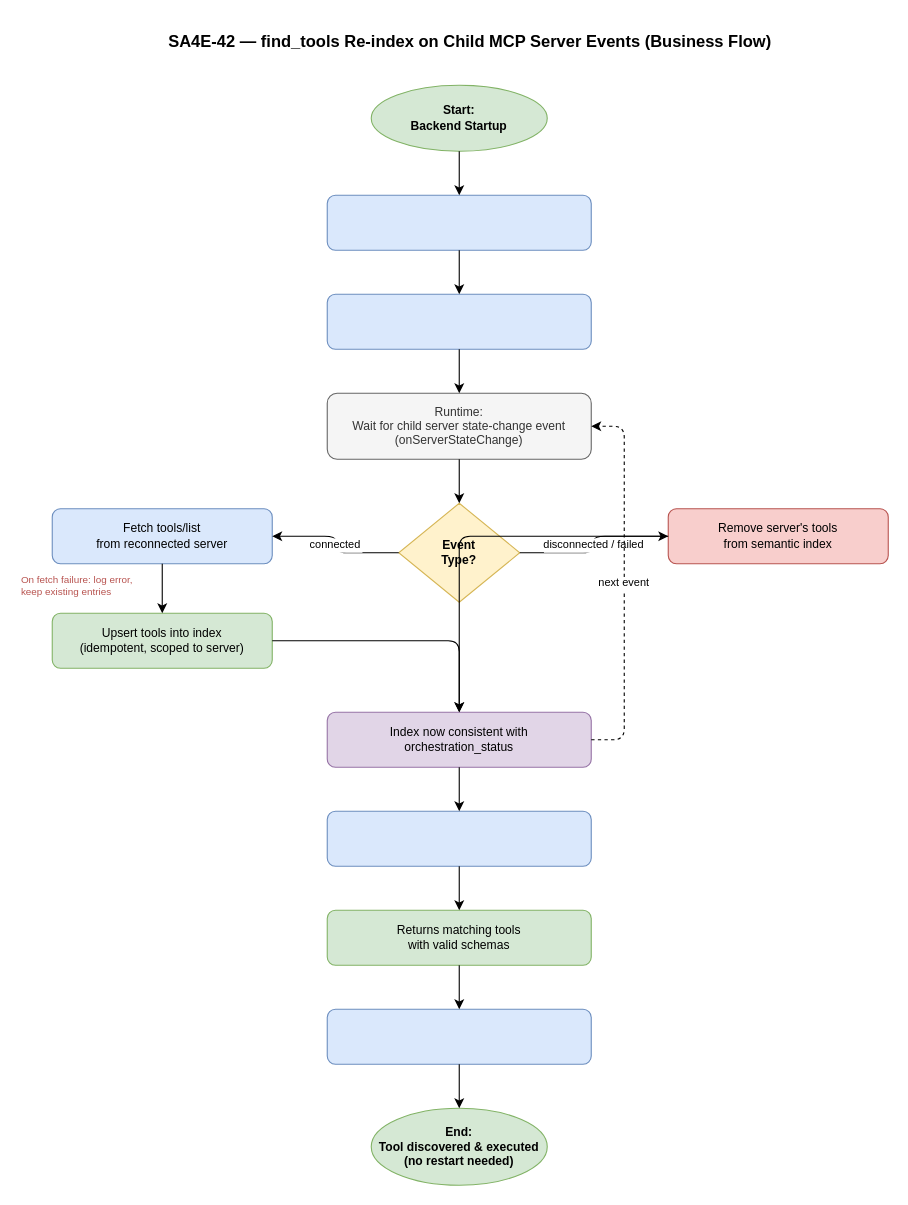
This 908x1205 diagram has some shape labels left out. Each missing label, with the box of its shape:
Agent calls execute_dynamic_tool (proxied to owning child server): (326, 1008, 591, 1064)
Agent calls find_tools('jira create issue'): (326, 810, 591, 866)
Connect configured child MCP servers (read orchestration.json): (326, 194, 591, 250)
Ingest tools of connected servers into semantic index (mcp_tools): (326, 293, 591, 349)
